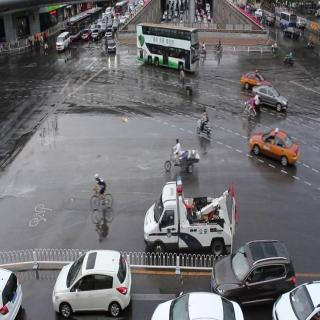BigCar: (134, 18, 206, 80), (65, 10, 90, 39), (83, 7, 104, 27)
Car: (136, 172, 241, 262), (205, 236, 296, 305), (51, 248, 136, 320), (243, 116, 300, 170), (247, 78, 288, 121), (239, 62, 272, 96), (52, 28, 72, 64), (103, 36, 119, 58), (90, 27, 102, 47), (282, 24, 299, 38), (83, 29, 91, 43)
